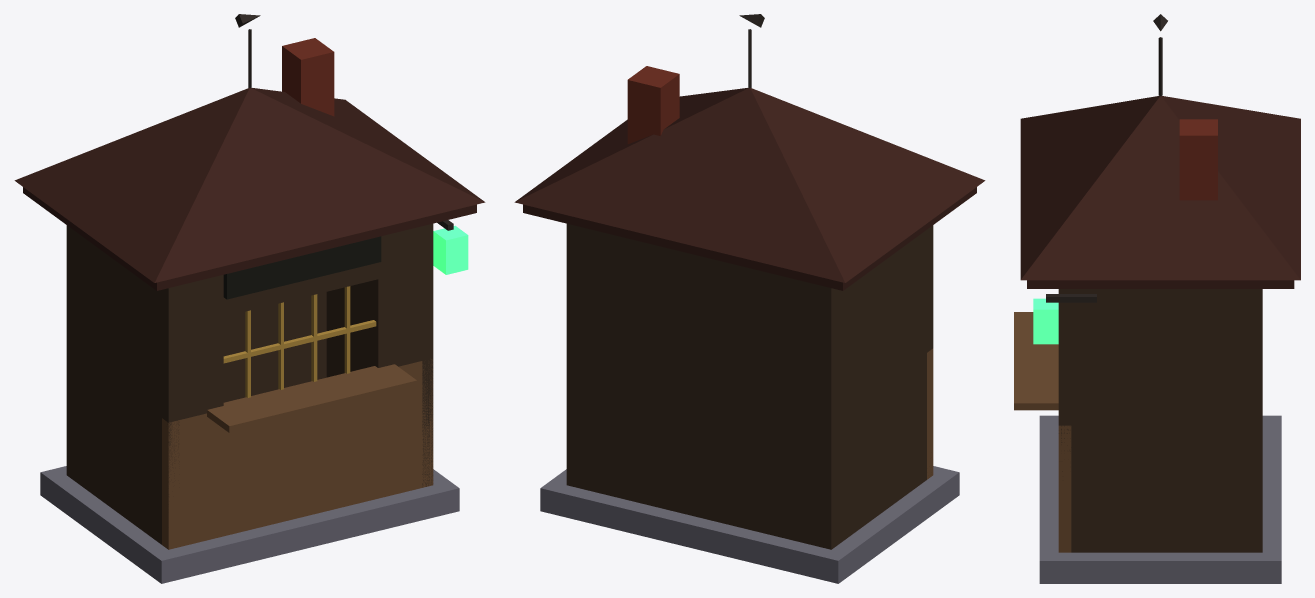
File: ticket_booth.glb
3 renders of one model, left to right at view 1: azimuth 30°, elevation 25°; view 2: azimuth 150°, elevation 25°; view 3: azimuth 270°, elevation 25°, orthographic.
Parts seen in each view (by area): view 1: Roof.001, FrontLower, WallSide_L, Plinth, WallBack, FrontUpper, Counter, WallSide_R, FrontPillar_L, FrontPillar_R, SignBoard_Face.001, RoofSlab (+3 smaller); view 2: WallBack, Roof.001, WallSide_L, Plinth, RoofSlab, Chimney, WallSide_R, FrontLower, FrontPillar_L; view 3: WallSide_R, Roof.001, Plinth, Counter, WallBack, Chimney, RoofSlab, FrontLower, Lantern, FrontPillar_R, FrontUpper, LanternArm.
Boxes of the visible parts, left/top/right/bottom form: Roof.001: left=14, top=87, right=485, bottom=282; FrontLower: left=162, top=359, right=433, bottom=549; WallSide_L: left=73, top=230, right=179, bottom=544; Plinth: left=40, top=466, right=459, bottom=583; WallBack: left=66, top=225, right=326, bottom=479; FrontUpper: left=162, top=226, right=422, bottom=329; Counter: left=207, top=364, right=416, bottom=432; WallSide_R: left=326, top=223, right=433, bottom=487; FrontPillar_L: left=162, top=317, right=223, bottom=422; FrontPillar_R: left=372, top=266, right=433, bottom=367; SignBoard_Face.001: left=223, top=236, right=381, bottom=299; RoofSlab: left=23, top=187, right=476, bottom=290; WallBack: left=566, top=225, right=837, bottom=549; Roof.001: left=514, top=87, right=985, bottom=282; WallSide_L: left=820, top=230, right=926, bottom=549; Plinth: left=540, top=466, right=959, bottom=583; RoofSlab: left=523, top=187, right=976, bottom=290; Chimney: left=627, top=66, right=679, bottom=143; WallSide_R: left=566, top=223, right=577, bottom=485; FrontLower: left=927, top=348, right=933, bottom=479; FrontPillar_L: left=927, top=256, right=933, bottom=352; WallSide_R: left=1058, top=289, right=1262, bottom=552; Roof.001: left=1020, top=96, right=1300, bottom=280; Plinth: left=1039, top=415, right=1281, bottom=583; Counter: left=1014, top=312, right=1058, bottom=410; WallBack: left=1250, top=289, right=1262, bottom=552; Chimney: left=1179, top=119, right=1217, bottom=200; RoofSlab: left=1027, top=280, right=1294, bottom=288; FrontLower: left=1058, top=425, right=1071, bottom=552; Lantern: left=1033, top=298, right=1058, bottom=344; FrontPillar_R: left=1058, top=333, right=1071, bottom=425; FrontUpper: left=1058, top=289, right=1071, bottom=333; LanternArm: left=1046, top=294, right=1096, bottom=302.
Size of the model in its own units: 3 by 4.26 by 2.25.
